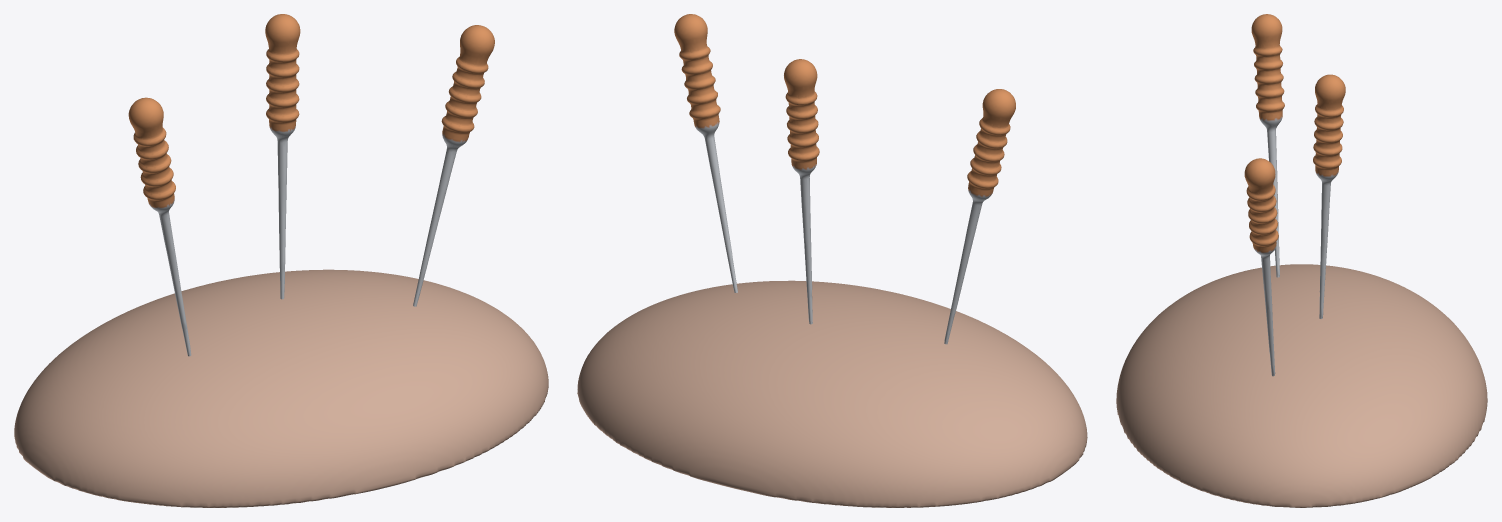
Rendered from needles.glb.
The picture shows the model from 3 angles, left to right: view 1: azimuth 30°, elevation 25°; view 2: azimuth 150°, elevation 25°; view 3: azimuth 270°, elevation 25°; orthographic projection. The views are drawn at different scales.
Visible parts, largest first — view 1: pad, needle_2, needle_1, needle_0; view 2: pad, needle_2, needle_1, needle_0; view 3: pad, needle_1, needle_0, needle_2.
Boxes of the visible parts, bbox=[...] form: pad: bbox=[14, 269, 548, 507]; needle_2: bbox=[413, 25, 494, 306]; needle_1: bbox=[265, 14, 300, 299]; needle_0: bbox=[128, 97, 191, 356]; pad: bbox=[577, 280, 1087, 507]; needle_2: bbox=[674, 14, 737, 292]; needle_1: bbox=[784, 59, 819, 324]; needle_0: bbox=[944, 89, 1015, 344]; pad: bbox=[1116, 264, 1487, 507]; needle_1: bbox=[1313, 74, 1345, 318]; needle_0: bbox=[1251, 14, 1284, 277]; needle_2: bbox=[1244, 158, 1278, 376].
Size of the model in its own units: 2.1 by 1.55 by 1.56.
